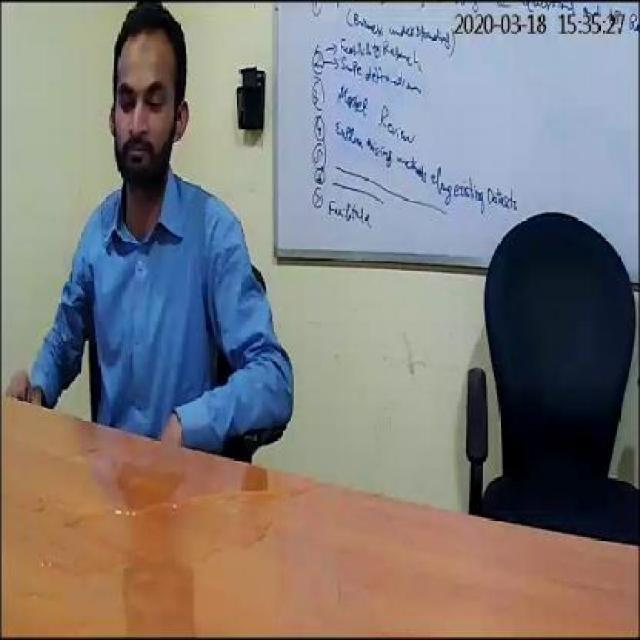spill: (28, 508, 286, 598), (39, 448, 324, 517)
